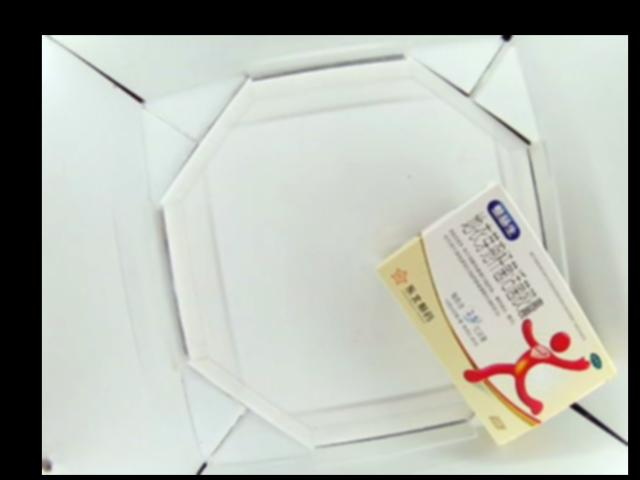Medicine: (374, 182, 618, 445)
